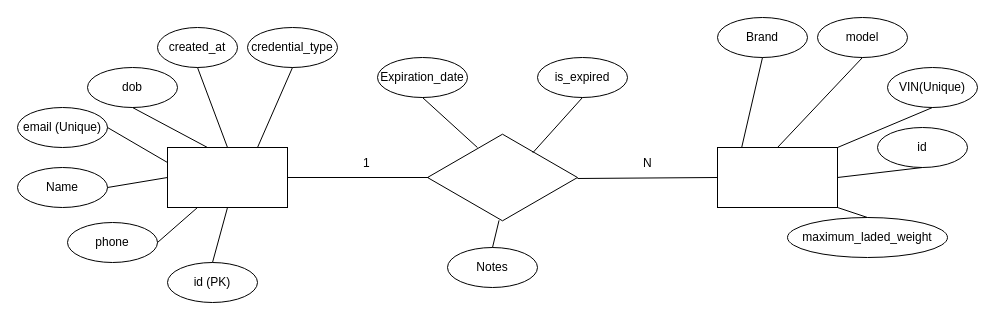
The diagram is 995 pixels wide and 320 high, and some of its shapes have lost their labels. The centre of each missing label's shape, as x and y in pixels:
"Assigment" belongs at point (502, 177).
"Driver" belongs at point (227, 177).
"Vehicles" belongs at point (777, 177).
